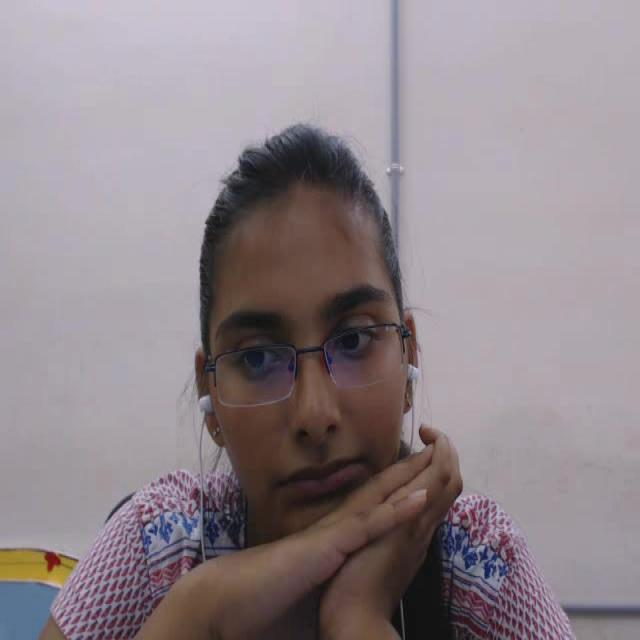Bored: (156, 110, 452, 616)
